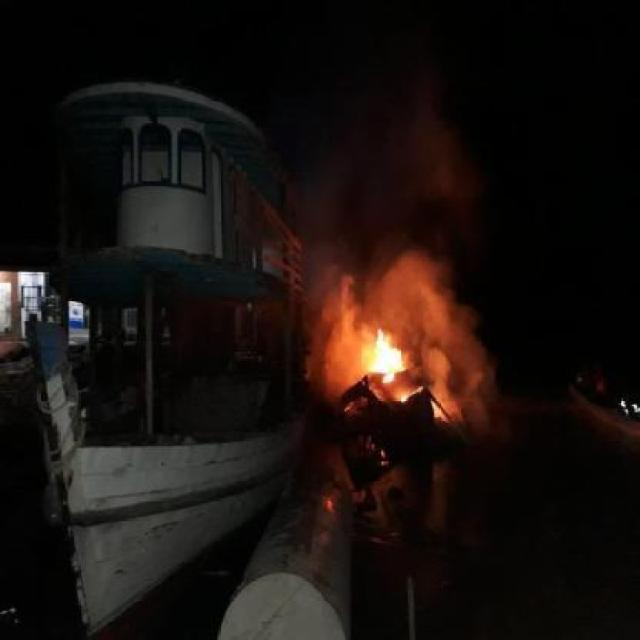Fire: (370, 329, 406, 386)
Smoke: (375, 198, 457, 334), (424, 320, 494, 426), (312, 272, 368, 391), (376, 116, 462, 192)
